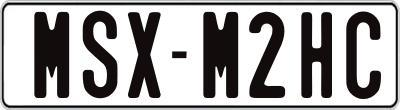2: (247, 9, 285, 98)
C: (344, 11, 381, 101)
H: (298, 11, 331, 103)
M: (201, 12, 237, 103), (32, 9, 67, 101)
S: (83, 10, 123, 100)
X: (128, 9, 163, 97)
